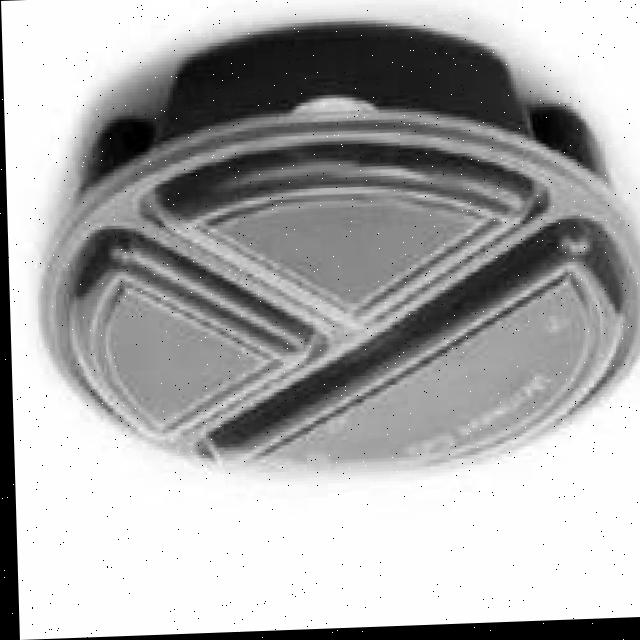disposable: (1, 9, 640, 528)
